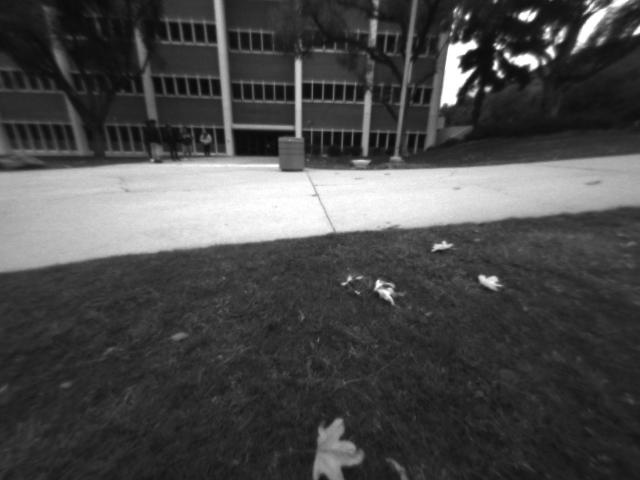trashcan: (278, 136, 305, 171)
